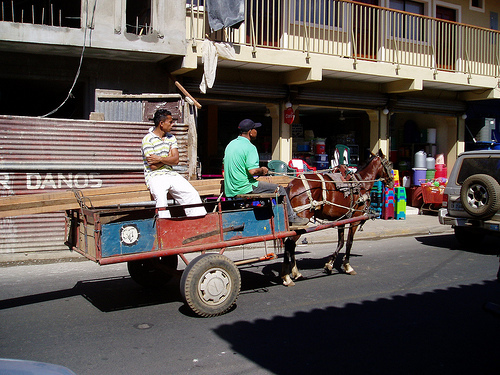horse: (277, 147, 396, 288)
